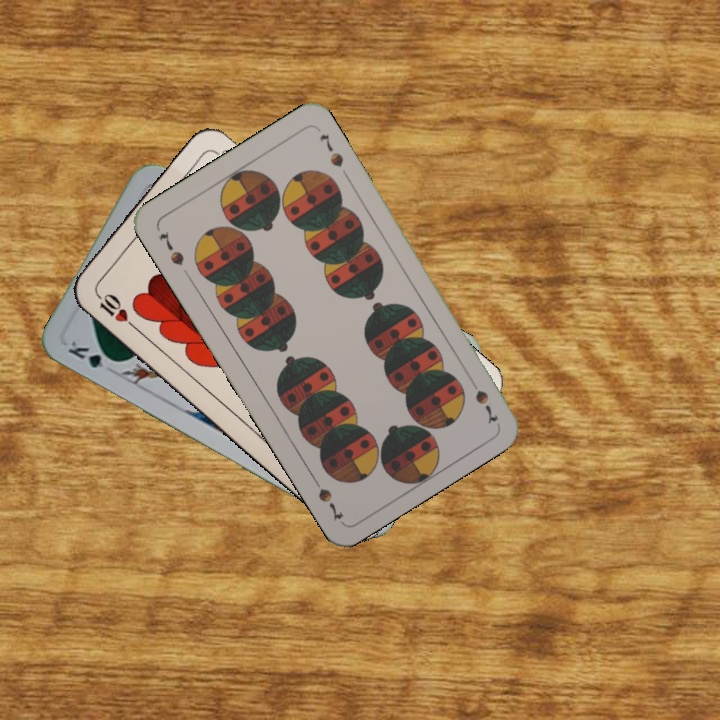GK: (63, 337, 120, 374)
H10: (91, 287, 139, 332)
S7: (466, 371, 501, 426), (155, 226, 187, 268)
